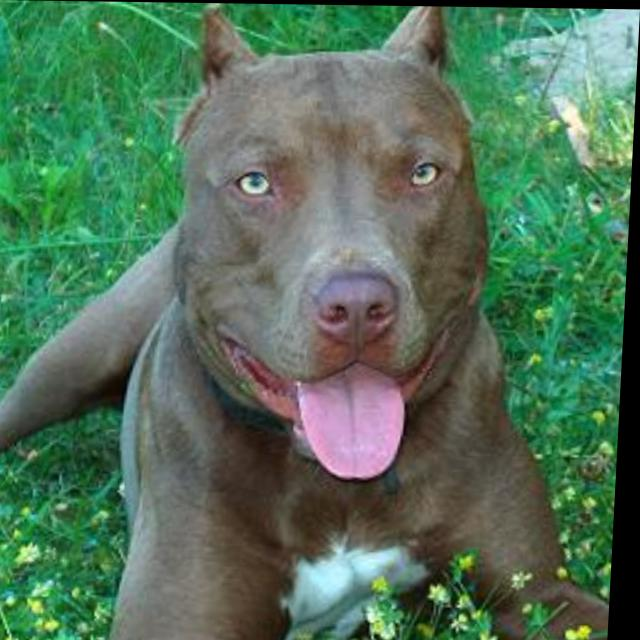amstaff: (1, 1, 640, 640)
